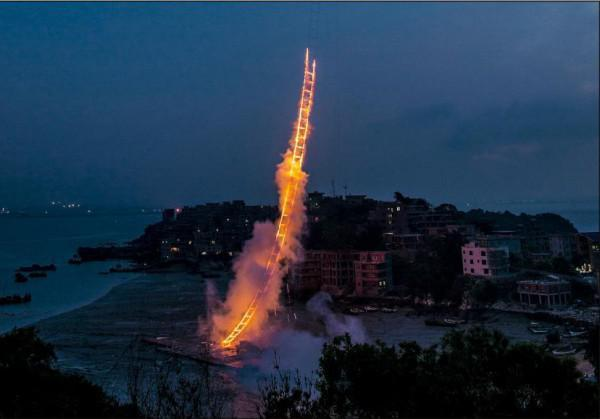fire: (208, 37, 321, 355)
